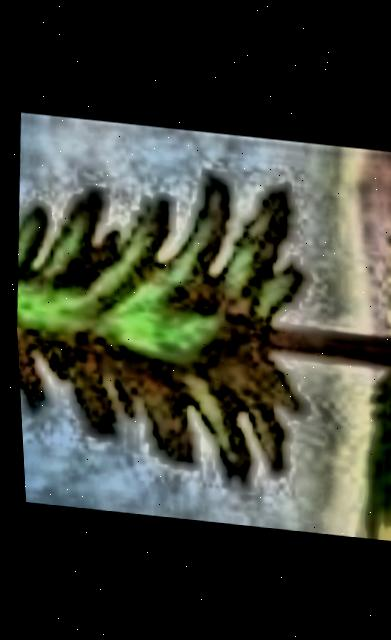El Pino: (5, 111, 391, 539)
